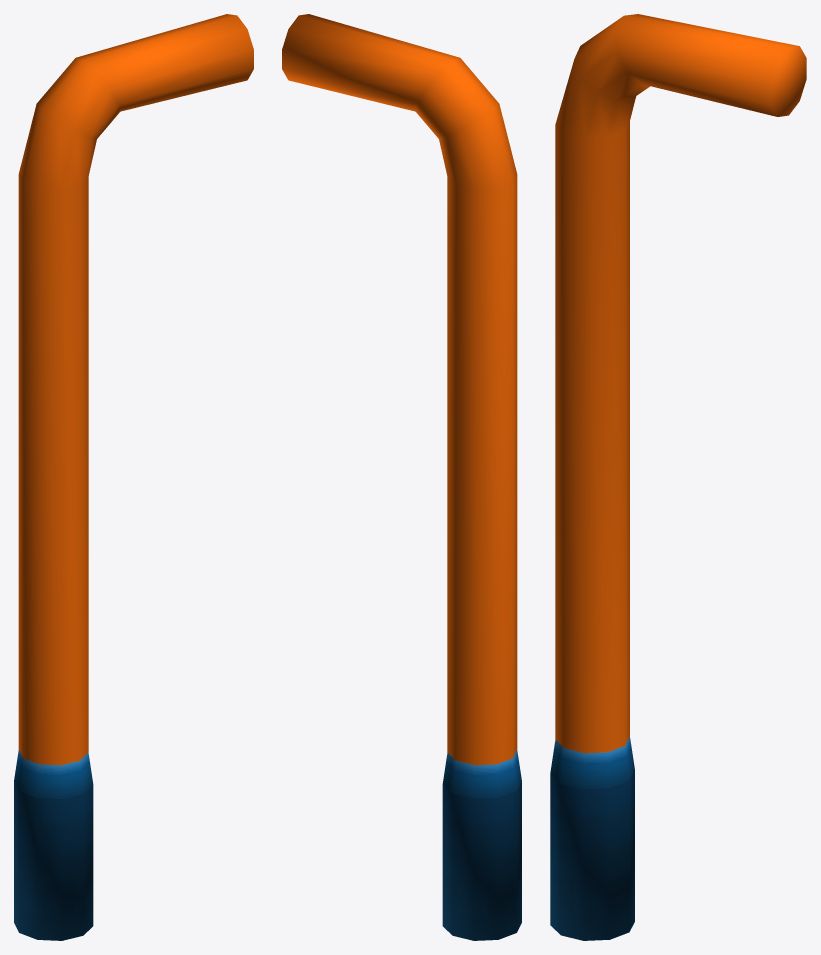
The model's file is tns_pole__tns_pole.glb.
3 renders of one model, left to right at view 1: azimuth 30°, elevation 25°; view 2: azimuth 150°, elevation 25°; view 3: azimuth 330°, elevation 25°, orthographic. The views are drawn at different scales.
Parts seen in each view (by area): view 1: polygon0; view 2: polygon0; view 3: polygon0.
Part boxes in pixels (x1=…): polygon0: x1=14, y1=14, x2=253, y2=940; polygon0: x1=282, y1=14, x2=521, y2=940; polygon0: x1=550, y1=14, x2=806, y2=940.
Size of the model in its own units: 7.19 by 27.2 by 2.16.
1 material, 1 textured.
